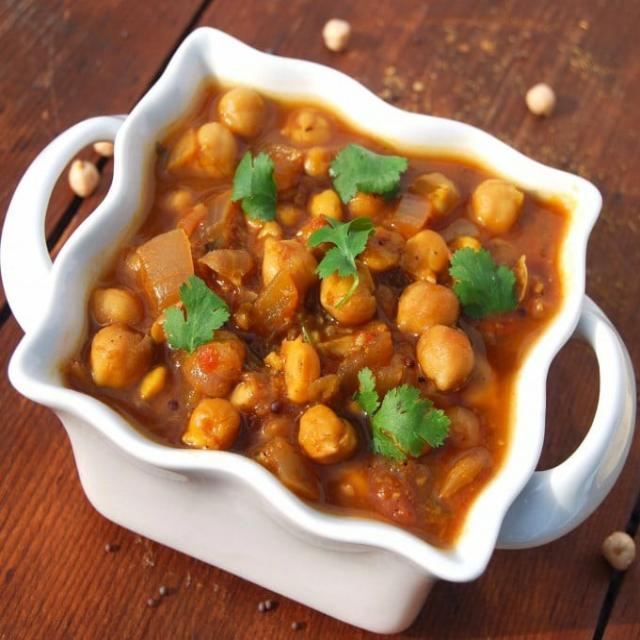Chole: (61, 80, 570, 552)
